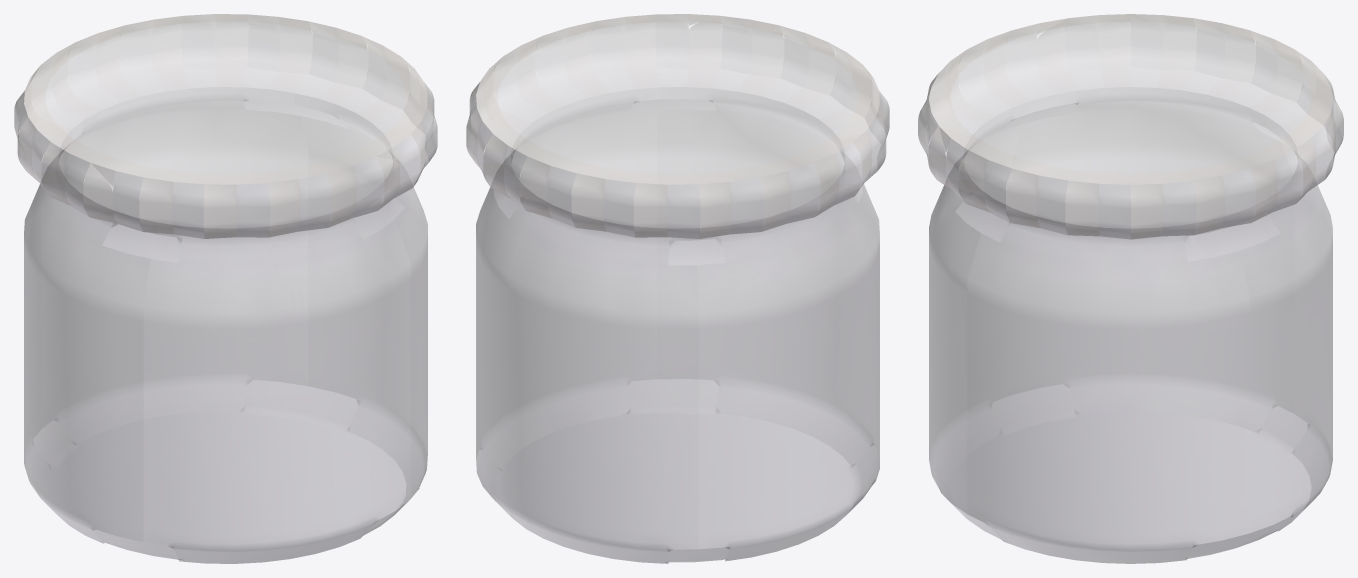
File: kav2_B.glb
3 views of the same model, side by side, from view 1: azimuth 30°, elevation 25°; view 2: azimuth 150°, elevation 25°; view 3: azimuth 270°, elevation 25° (orthographic).
Visible parts, largest first — view 1: kav2_B; view 2: kav2_B; view 3: kav2_B.
Boxes of the visible parts, x1,y1,x2,y2 form: kav2_B: [14, 14, 437, 563]; kav2_B: [466, 14, 889, 563]; kav2_B: [918, 14, 1343, 563].
Bounding box in the file's own units: 3.07 × 3.1 × 3.07.
1 material, 1 textured.
